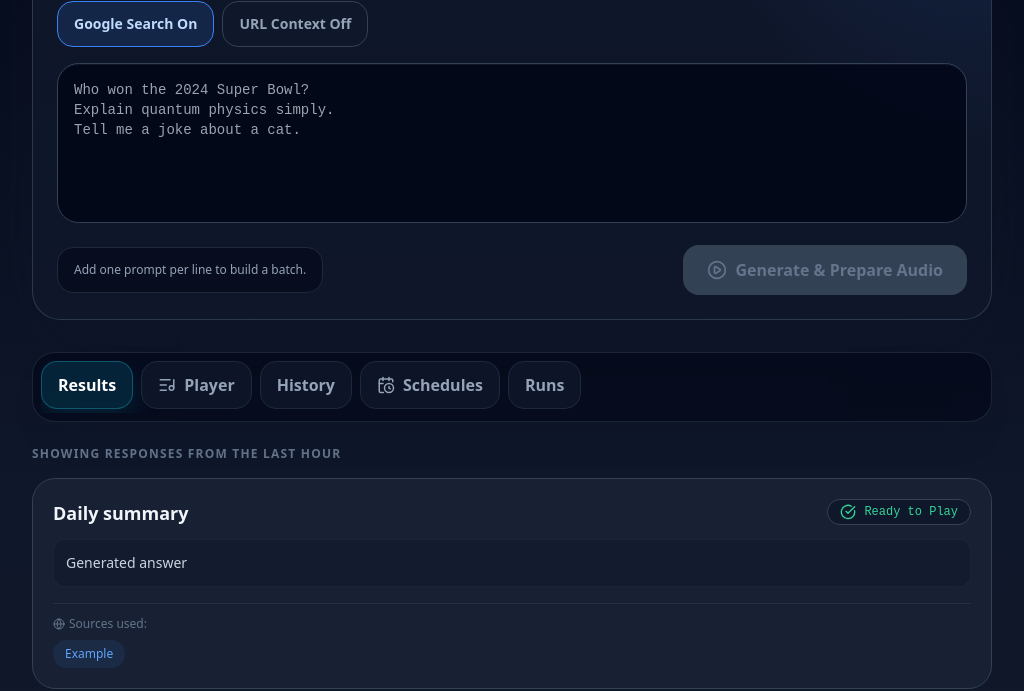
Test: App button regression coverage › shows scheduled runs in history even when they only exist in live runs data
(page scrolled)
Click the button "history" at (306, 384), box [260,360,352,408]
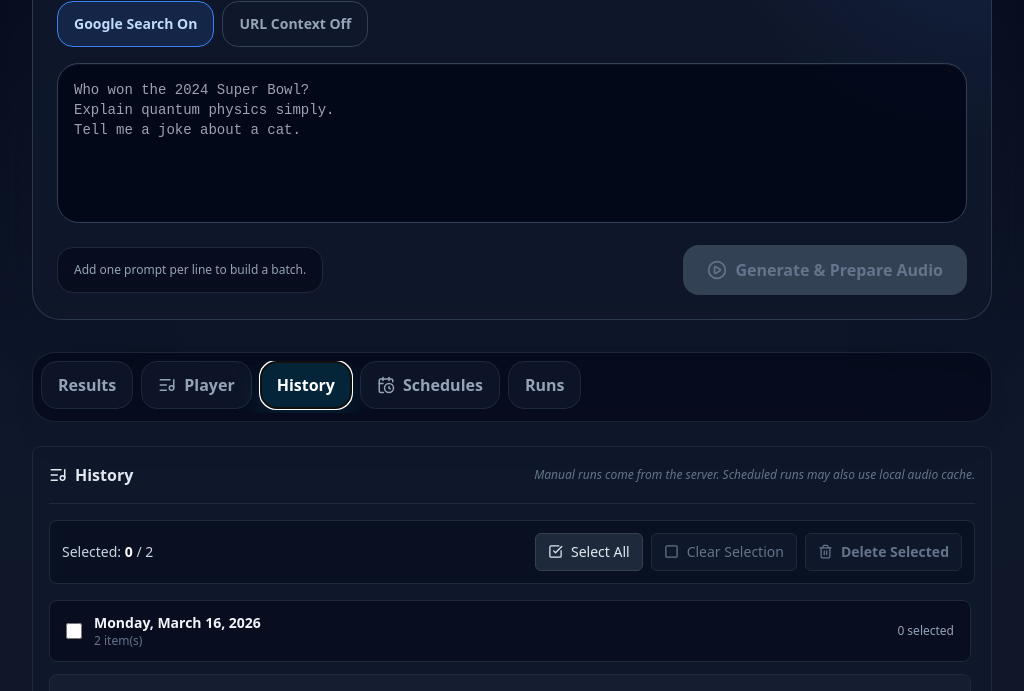
Check: the text "Scheduled" is shown, box [534,466,975,482]
